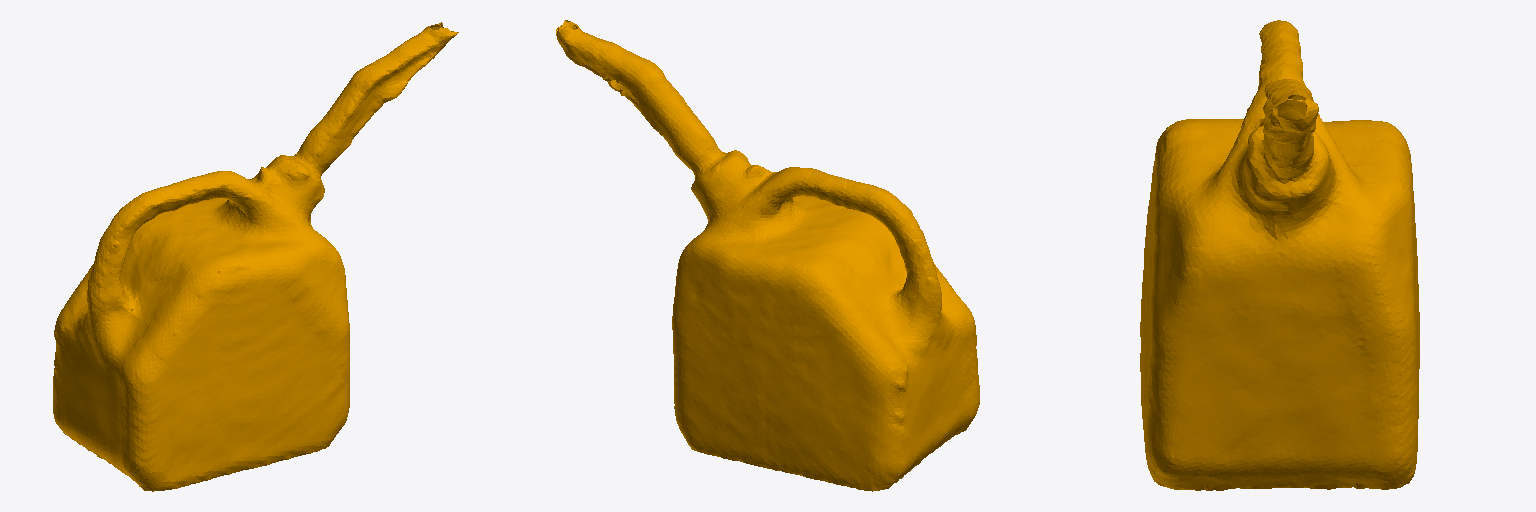
robot.urdf — gastank:
<robot name="gastank">
  <link name="gastank">
    <inertial>
      <origin xyz="0 0 0.0145"/>
      <mass value="0.1" />
      <inertia  ixx="0.0001" ixy="0.0"  ixz="0.0"  iyy="0.0001"  iyz="0.0"  izz="0.0001" />
    </inertial>
    <visual>
      <origin xyz="0 0 0.0145"/>
      <geometry>        
     <mesh filename="gastank.dae" scale="1 1 1"/>
    </geometry>
    </visual>
    <collision>
      <origin xyz="0 0 0.0145"/>
      <geometry>
        <box size="0.029 0.029 0.029"/>
      </geometry>
    </collision>
  </link>
  <gazebo reference="gastank">
    <material>Gazebo/Blue</material>
  </gazebo>
</robot>

--- Render facts (derived) ---
3 views of the same robot in one strip: view 1: azimuth 30°, elevation 25°; view 2: azimuth 150°, elevation 25°; view 3: azimuth 270°, elevation 25° (orthographic).
Robot: gastank — 1 links, 0 joints (none); root link gastank; default pose: every joint at zero.
Visible links, largest first — view 1: gastank; view 2: gastank; view 3: gastank.
Link boxes in pixels (x1,y1,x2,y2): gastank: [53, 22, 458, 491]; gastank: [556, 20, 979, 491]; gastank: [1140, 20, 1419, 490].
Bounding box of the posed robot: 0.3467 × 0.1588 × 0.3129 m (x, y, z).
Meshes: 1 distinct files referenced, 1 mesh visuals loaded (1 Collada DAE).